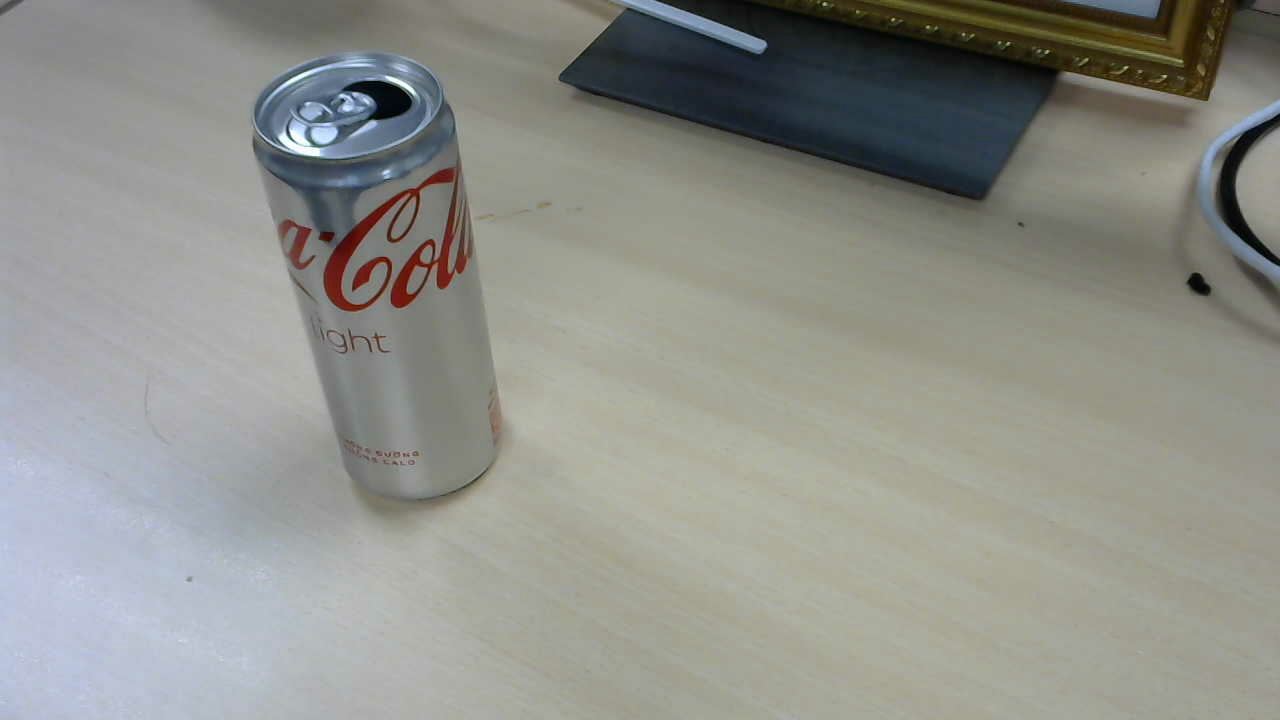Coca_Cola: (257, 55, 511, 503)
